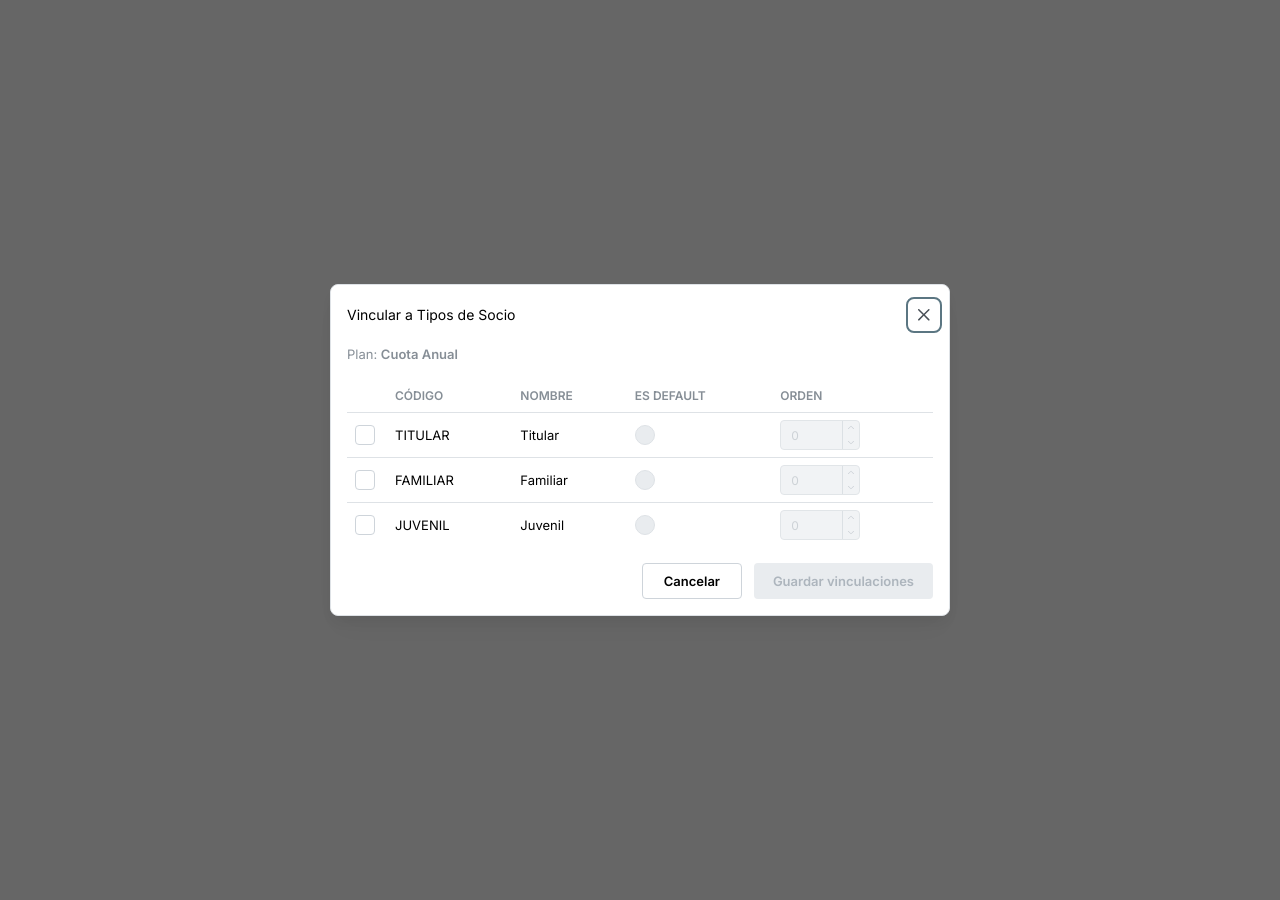
Scenario: LinkMemberTypesModal › seleccion de tipos de socio › deberia habilitar boton Guardar al seleccionar un tipo de socio
This screenshot has width=1280, height=900.
Note: seleccionar Titular
Click the checkbox named "Seleccionar Titular".
click(365, 435)  # box [355,425,375,445]
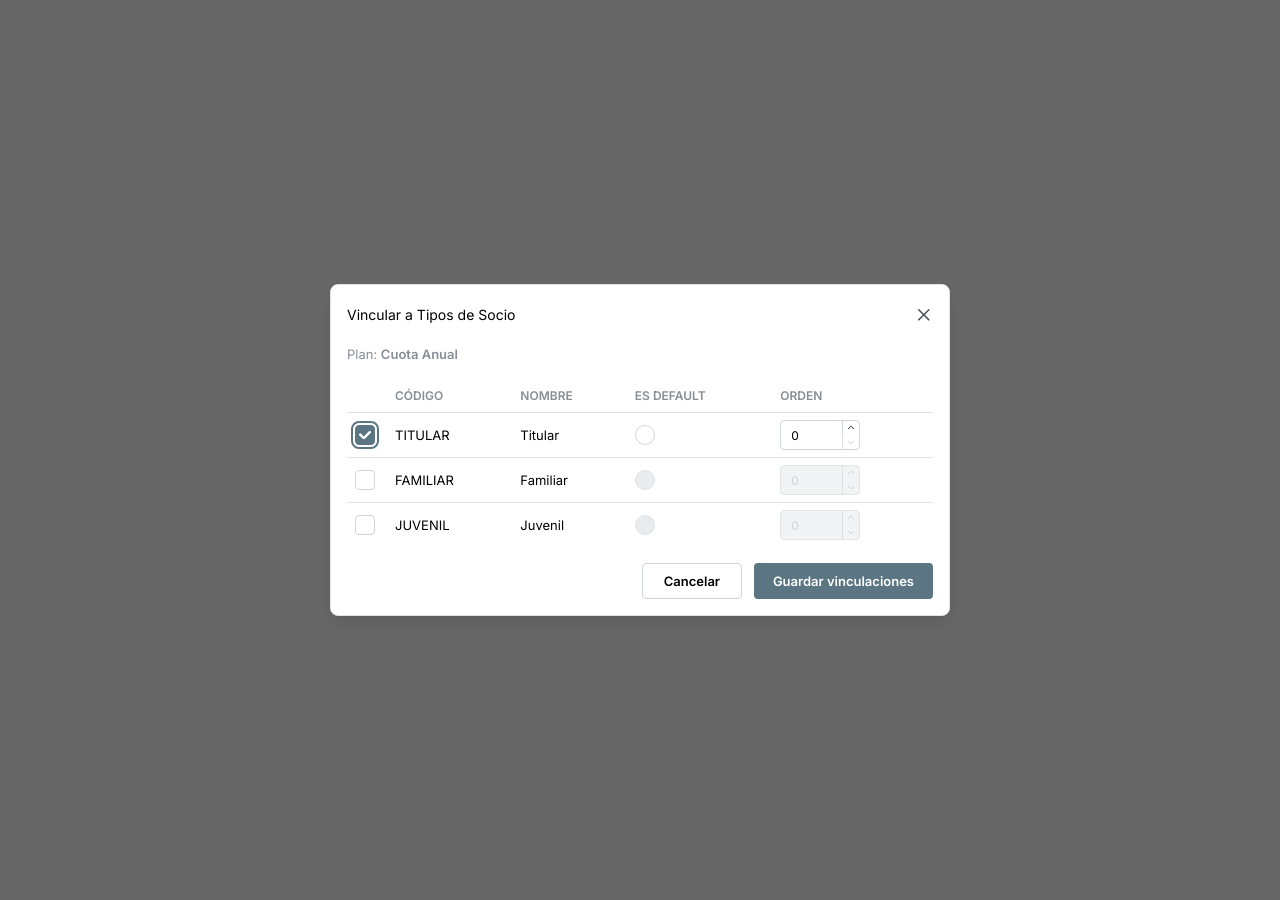
Expected: the button "Guardar vinculaciones" is enabled, [754,563,933,599]
